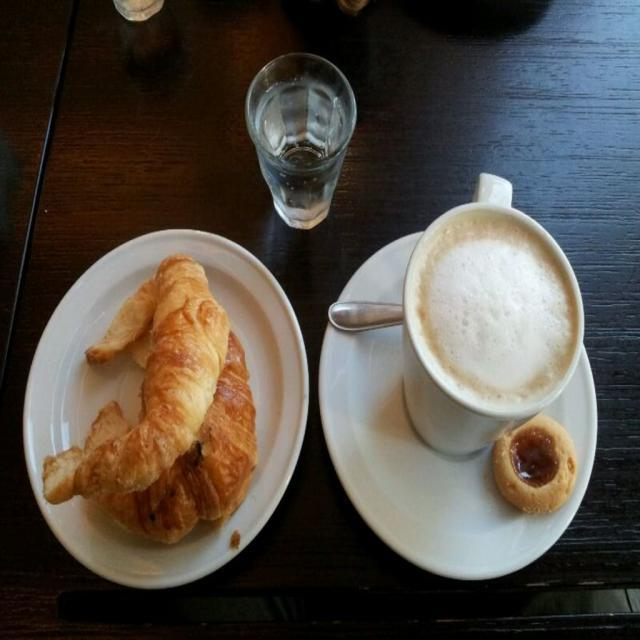Croissant: (43, 254, 229, 504), (82, 315, 260, 543)
